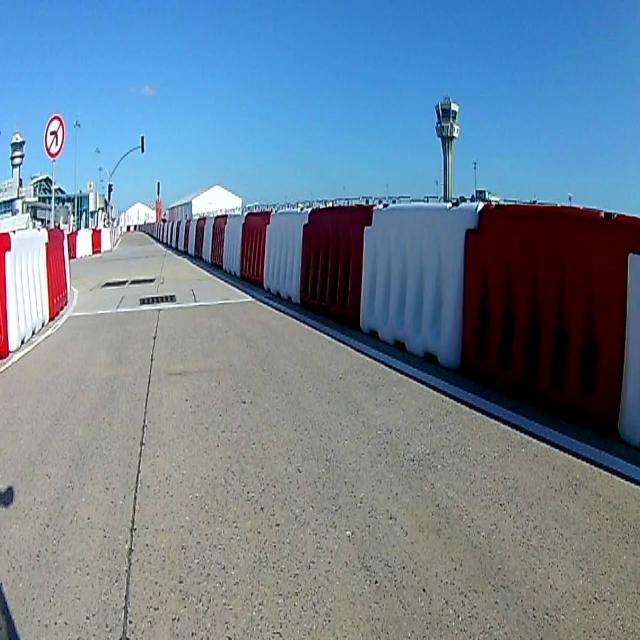soladonulmez: (44, 114, 66, 156)
